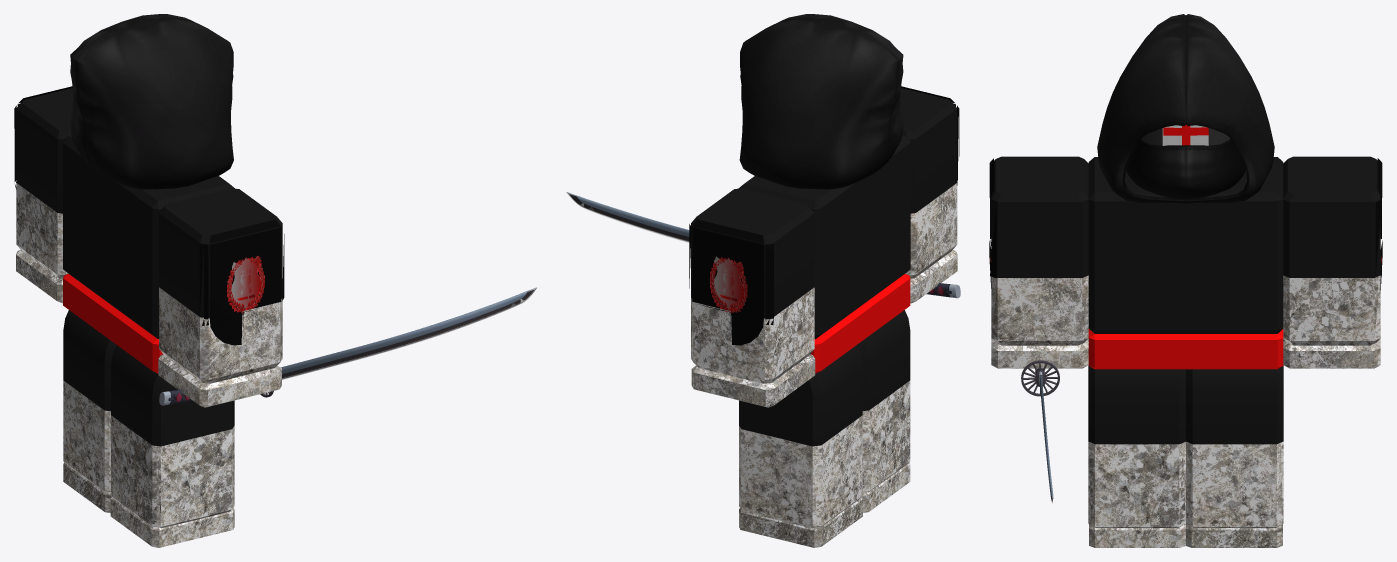
File: asssasin.obj
3 views of the same model, side by side, from view 1: azimuth 30°, elevation 25°; view 2: azimuth 150°, elevation 25°; view 3: azimuth 270°, elevation 25° (orthographic). The views are drawn at different scales.
Visible parts, largest first — view 1: Handle1, AssassinRobot3, AssassinRobot7, AssassinRobot6, AssassinRobot5, AssassinRobot8, AssassinRobot4, AssassinRobot13, AssassinRobot15, Sword1, AssassinRobot12, AssassinRobot11 (+5 smaller); view 2: Handle1, AssassinRobot3, AssassinRobot15, AssassinRobot14, AssassinRobot16, AssassinRobot13, AssassinRobot12, AssassinRobot5, AssassinRobot7, AssassinRobot4, AssassinRobot11, AssassinRobot8 (+5 smaller); view 3: AssassinRobot3, Handle1, AssassinRobot5, AssassinRobot13, AssassinRobot15, AssassinRobot7, AssassinRobot4, AssassinRobot12, AssassinRobot11, AssassinRobot16, AssassinRobot8, AssassinRobot17 (+8 smaller).
Part boxes in pixels (x1=…): Handle1: x1=70, y1=14, x2=233, y2=189; AssassinRobot3: x1=63, y1=135, x2=234, y2=338; AssassinRobot7: x1=111, y1=415, x2=234, y2=528; AssassinRobot6: x1=199, y1=219, x2=284, y2=345; AssassinRobot5: x1=159, y1=188, x2=282, y2=318; AssassinRobot8: x1=159, y1=287, x2=282, y2=383; AssassinRobot4: x1=111, y1=345, x2=234, y2=446; AssassinRobot13: x1=16, y1=88, x2=73, y2=213; AssassinRobot15: x1=63, y1=380, x2=110, y2=492; Sword1: x1=159, y1=287, x2=536, y2=405; AssassinRobot12: x1=63, y1=310, x2=116, y2=411; AssassinRobot11: x1=63, y1=274, x2=162, y2=373; Handle1: x1=739, y1=14, x2=903, y2=189; AssassinRobot3: x1=738, y1=135, x2=910, y2=339; AssassinRobot15: x1=739, y1=415, x2=862, y2=528; AssassinRobot14: x1=689, y1=219, x2=773, y2=345; AssassinRobot16: x1=691, y1=287, x2=814, y2=383; AssassinRobot13: x1=691, y1=188, x2=814, y2=318; AssassinRobot12: x1=739, y1=345, x2=862, y2=446; AssassinRobot5: x1=900, y1=88, x2=957, y2=213; AssassinRobot7: x1=862, y1=380, x2=910, y2=492; AssassinRobot4: x1=857, y1=310, x2=910, y2=410; AssassinRobot11: x1=810, y1=274, x2=910, y2=373; AssassinRobot8: x1=905, y1=183, x2=957, y2=278; AssassinRobot3: x1=1088, y1=157, x2=1283, y2=333; Handle1: x1=1097, y1=14, x2=1274, y2=203; AssassinRobot5: x1=991, y1=156, x2=1088, y2=277; AssassinRobot13: x1=1283, y1=156, x2=1380, y2=277; AssassinRobot15: x1=1186, y1=441, x2=1283, y2=527; AssassinRobot7: x1=1088, y1=441, x2=1185, y2=527; AssassinRobot4: x1=1088, y1=365, x2=1185, y2=444; AssassinRobot12: x1=1186, y1=365, x2=1283, y2=444; AssassinRobot11: x1=1088, y1=329, x2=1283, y2=369; AssassinRobot16: x1=1283, y1=275, x2=1380, y2=345; AssassinRobot8: x1=991, y1=275, x2=1088, y2=345; AssassinRobot17: x1=1283, y1=338, x2=1380, y2=368.
Size of the model in its own units: 4.83 by 5.59 by 4.04.
Materials: 9 (7 with a texture image).
